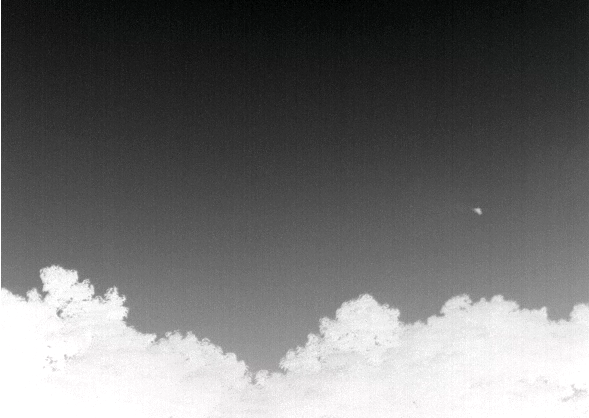dim target: (470, 206, 483, 216)
